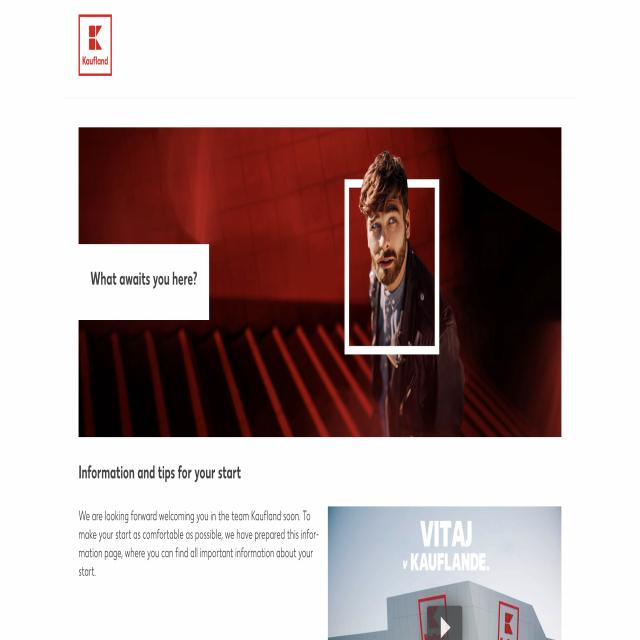Logo: (76, 12, 113, 80)
